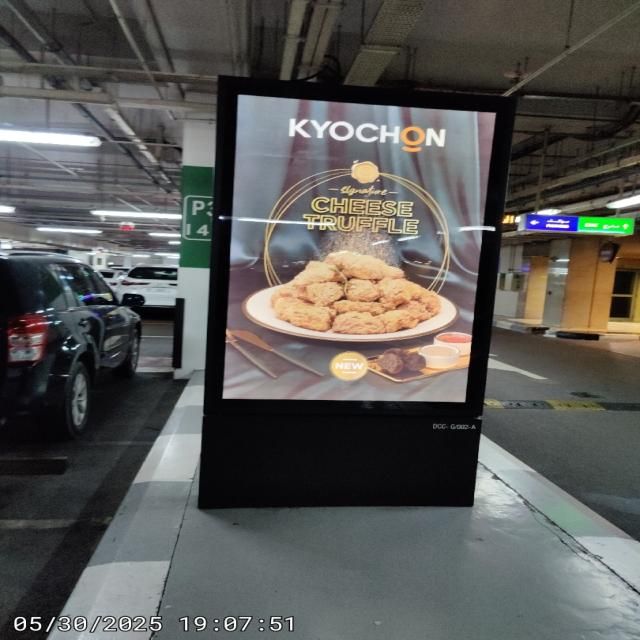mupi: (200, 81, 516, 515)
